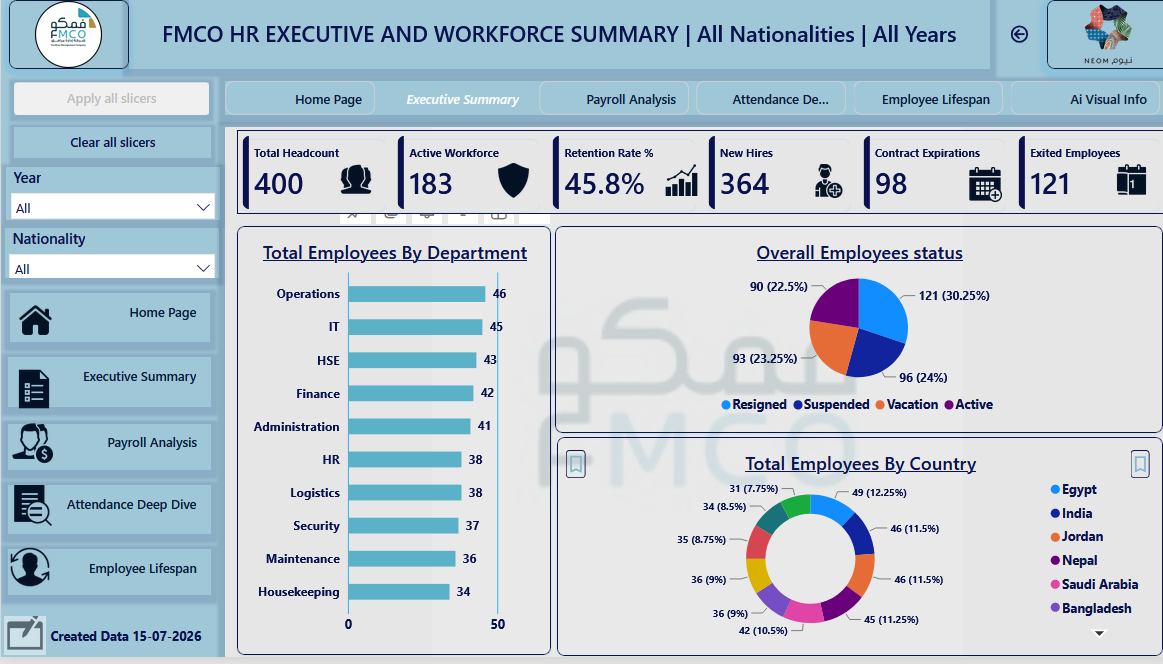

This screenshot's page, from the dashboard's own definition file:
{"tool":"powerbi","page":{"name":"Executive Summary","canvas":[1280,720],"ordinal":1},"visuals":[{"type":"image","box":[8.6,0,131.4,75.7],"z":0},{"type":"cardVisual","fields":{"Data":["All mesures.Total Headcount","All mesures.Active Workforce","All mesures.Retention Rate %","All mesures.New Hires","All mesures.Contract Expirations","All mesures.Exited Employees"]},"box":[258.6,142.9,1021.4,92.9],"z":0,"group":"g5"},{"type":"actionButton","box":[10.6,321.4,219.4,53.4],"z":0,"group":"g2"},{"type":"image","box":[13.4,328,50.1,47.1],"z":0,"group":"g4"},{"type":"actionButton","box":[7.1,391.9,222.9,54.7],"z":0,"group":"g1"},{"type":"image","box":[3.3,675,46.2,43.3],"z":0,"group":"g3"},{"type":"image","box":[1145.7,0,134.3,75.7],"z":1000},{"type":"image","box":[345,177.2,88.4,39.1],"z":1000,"group":"g5"},{"type":"slicer","fields":{"Values":["DimDate.Year"]},"box":[5.4,182.5,233.8,58.6],"z":1000,"group":"g7"},{"type":"group","id":"g1","title":"Group 1","box":[7.1,391.9,222.9,260.9],"z":1000,"group":"g2"},{"type":"image","box":[13.1,401.1,46.6,48.8],"z":1000,"group":"g4"},{"type":"actionButton","box":[7.1,464.1,222.9,50.7],"z":1000,"group":"g1"},{"type":"textbox","box":[49.5,687.4,177.1,31],"z":1000,"group":"g3"},{"type":"card","fields":{"Values":["All mesures.Executive Page Title"]},"box":[140,0,942.9,75.7],"z":2000},{"type":"image","box":[516.6,178.4,88.4,37.9],"z":2000,"group":"g5"},{"type":"group","id":"g2","title":"Group 3","box":[7.1,321.4,222.9,331.4],"z":2000,"group":"g4"},{"type":"actionButton","box":[7.1,531.6,222.9,53.4],"z":2000,"group":"g1"},{"type":"image","box":[711,178.4,68.2,36.6],"z":3000,"group":"g5"},{"type":"actionButton","box":[7.1,602.1,222.9,50.7],"z":3000,"group":"g1"},{"type":"group","id":"g3","title":"Group 2","box":[3.3,675,223.3,43.3],"z":3000},{"type":"image","box":[872.6,179.7,68.2,36.6],"z":4000,"group":"g5"},{"type":"group","id":"g4","title":"Group 4","box":[7.1,321.4,222.9,331.4],"z":4000},{"type":"image","box":[8.8,460.8,50.3,46.6],"z":4000,"group":"g1"},{"type":"image","box":[1043,182.2,69.4,37.9],"z":5000,"group":"g5"},{"type":"image","box":[1188.6,188.6,70,37.1],"z":5000},{"type":"image","box":[9.5,529,45.6,49.8],"z":5000,"group":"g1"},{"type":"image","box":[1188.6,174.3,68.6,37.1],"z":6000},{"type":"image","box":[8.8,597,46.6,48],"z":6000,"group":"g1"},{"type":"image","box":[1188.6,190,70,37.1],"z":7000},{"type":"image","box":[245,138.3,1035,581.7],"z":8000},{"type":"clusteredBarChart","title":"Total Employees By Department","fields":{"Y":["All mesures.Total Headcount"],"Category":["DimDepartment.DepartmentName"]},"box":[258.6,247.1,344.3,470],"z":9000},{"type":"pieChart","title":"Overall Employees status ","fields":{"Y":["All mesures.Total Headcount"],"Category":["DimEmployee.EmployeeStatus"]},"box":[607.1,247.1,665.7,227.1],"z":10000},{"type":"donutChart","title":"Total Employees By Country ","fields":{"Y":["All mesures.Total Headcount"],"Category":["DimNationality.Nationality"]},"box":[607.1,478.6,665.7,241.4],"z":11000},{"type":"group","id":"g5","title":"Group 6","box":[258.6,142.9,1021.4,92.9],"z":13000},{"type":"image","box":[1203,179.2,70.7,36.6],"z":14000},{"type":"slicer","fields":{"Values":["DimNationality.Nationality"]},"box":[3.8,249.8,234.8,54.2],"z":14000,"group":"g7"},{"type":"actionButton","box":[618.3,493.3,21.7,30.8],"z":15000},{"type":"actionButton","box":[1237.5,493.3,20.8,30.8],"z":16000},{"type":"group","id":"g6","title":"Group 5","box":[3.8,182.5,235,122.5],"z":17000},{"type":"group","id":"g7","title":"Group 7","box":[3.8,182.5,235.4,121.5],"z":17004,"group":"g6"},{"type":"pageNavigator","box":[245.7,88.6,1027.1,37.1],"z":18000},{"type":"actionButton","box":[13.8,90,213.8,36.2],"z":19000},{"type":"actionButton","box":[13.8,138.8,216.2,35],"z":20000},{"type":"actionButton","box":[1085.7,0,60,75.7],"z":21000}]}

Visuals, with their boxes on the page's 1280x720 design canvas (x1, y1, x2, y2). These are canvas units, not pixel positions in the 1163x664 screenshot, which may show the page scaled, cropped or inside an application window:
image: pyautogui.locateOnScreen(9, 0, 140, 76)
cardVisual - All mesures.Total Headcount x All mesures.Active Workforce: pyautogui.locateOnScreen(259, 143, 1280, 236)
actionButton: pyautogui.locateOnScreen(11, 321, 230, 375)
image: pyautogui.locateOnScreen(13, 328, 64, 375)
actionButton: pyautogui.locateOnScreen(7, 392, 230, 447)
image: pyautogui.locateOnScreen(3, 675, 50, 718)
image: pyautogui.locateOnScreen(1146, 0, 1280, 76)
image: pyautogui.locateOnScreen(345, 177, 433, 216)
slicer - DimDate.Year: pyautogui.locateOnScreen(5, 182, 239, 241)
"Group 1" group: pyautogui.locateOnScreen(7, 392, 230, 653)
image: pyautogui.locateOnScreen(13, 401, 60, 450)
actionButton: pyautogui.locateOnScreen(7, 464, 230, 515)
textbox: pyautogui.locateOnScreen(50, 687, 227, 718)
card - All mesures.Executive Page Title: pyautogui.locateOnScreen(140, 0, 1083, 76)
image: pyautogui.locateOnScreen(517, 178, 605, 216)
"Group 3" group: pyautogui.locateOnScreen(7, 321, 230, 653)
actionButton: pyautogui.locateOnScreen(7, 532, 230, 585)
image: pyautogui.locateOnScreen(711, 178, 779, 215)
actionButton: pyautogui.locateOnScreen(7, 602, 230, 653)
"Group 2" group: pyautogui.locateOnScreen(3, 675, 227, 718)
image: pyautogui.locateOnScreen(873, 180, 941, 216)
"Group 4" group: pyautogui.locateOnScreen(7, 321, 230, 653)
image: pyautogui.locateOnScreen(9, 461, 59, 507)
image: pyautogui.locateOnScreen(1043, 182, 1112, 220)
image: pyautogui.locateOnScreen(1189, 189, 1259, 226)
image: pyautogui.locateOnScreen(10, 529, 55, 579)
image: pyautogui.locateOnScreen(1189, 174, 1257, 211)
image: pyautogui.locateOnScreen(9, 597, 55, 645)
image: pyautogui.locateOnScreen(1189, 190, 1259, 227)
image: pyautogui.locateOnScreen(245, 138, 1280, 720)
"Total Employees By Department" clusteredBarChart: pyautogui.locateOnScreen(259, 247, 603, 717)
"Overall Employees status " pieChart: pyautogui.locateOnScreen(607, 247, 1273, 474)
"Total Employees By Country " donutChart: pyautogui.locateOnScreen(607, 479, 1273, 720)
"Group 6" group: pyautogui.locateOnScreen(259, 143, 1280, 236)
image: pyautogui.locateOnScreen(1203, 179, 1274, 216)
slicer - DimNationality.Nationality: pyautogui.locateOnScreen(4, 250, 239, 304)
actionButton: pyautogui.locateOnScreen(618, 493, 640, 524)
actionButton: pyautogui.locateOnScreen(1238, 493, 1258, 524)
"Group 5" group: pyautogui.locateOnScreen(4, 182, 239, 305)
"Group 7" group: pyautogui.locateOnScreen(4, 182, 239, 304)
pageNavigator: pyautogui.locateOnScreen(246, 89, 1273, 126)
actionButton: pyautogui.locateOnScreen(14, 90, 228, 126)
actionButton: pyautogui.locateOnScreen(14, 139, 230, 174)
actionButton: pyautogui.locateOnScreen(1086, 0, 1146, 76)
